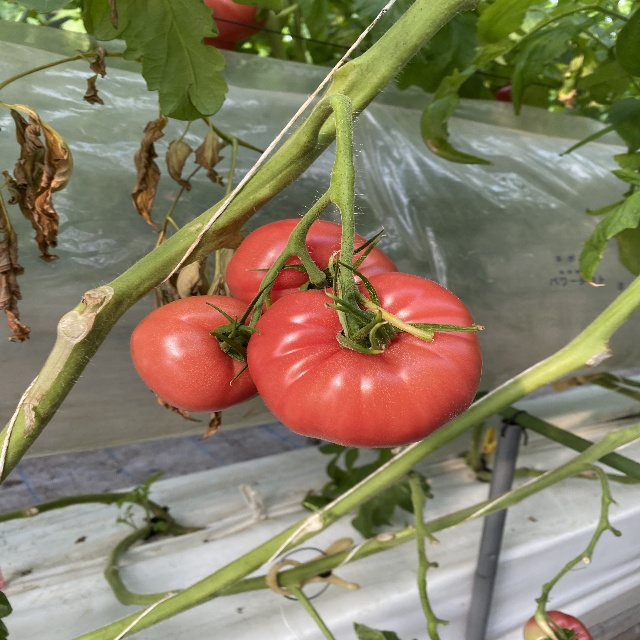b_fully_ripened: (246, 272, 482, 449), (226, 218, 399, 317), (130, 295, 260, 412)
